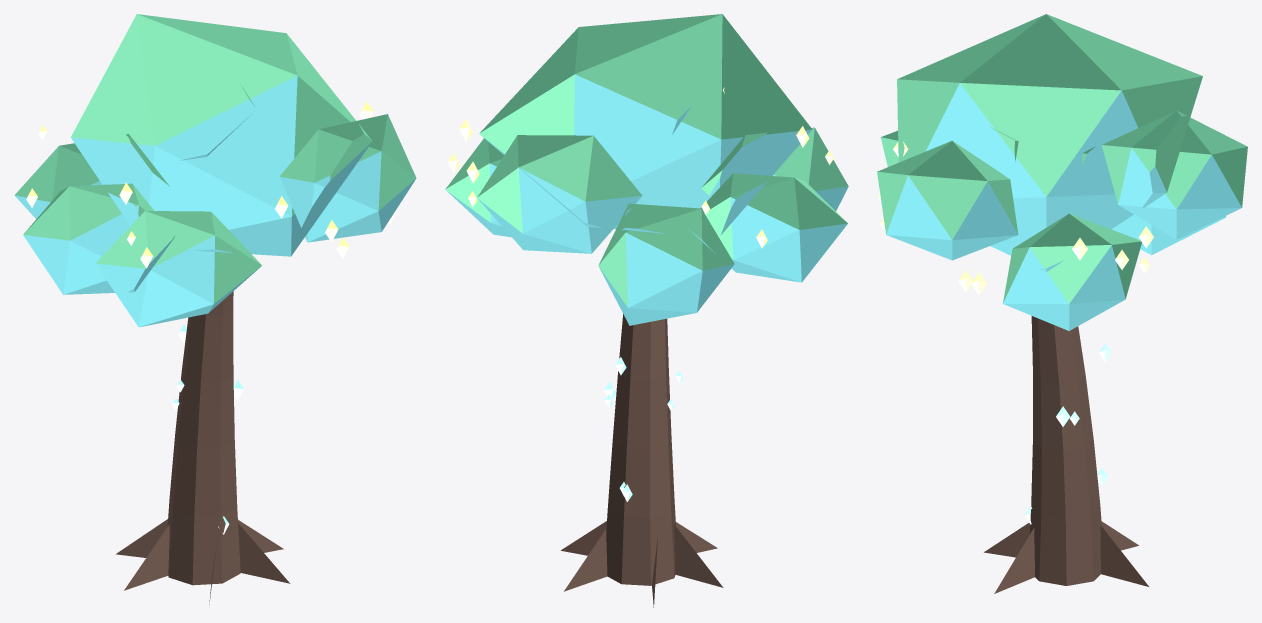
Rendered from giant_heartwood_near.glb.
The picture shows the model from 3 angles, left to right: view 1: azimuth 30°, elevation 25°; view 2: azimuth 150°, elevation 25°; view 3: azimuth 270°, elevation 25°; orthographic projection.
Visible parts, largest first — view 1: giant_heartwood_near; view 2: giant_heartwood_near; view 3: giant_heartwood_near.
Part boxes in pixels (bbox=[...]): giant_heartwood_near: bbox=[14, 14, 416, 604]; giant_heartwood_near: bbox=[445, 14, 848, 607]; giant_heartwood_near: bbox=[877, 14, 1247, 593].
Bounding box in the file's own units: 7.81 × 11.18 × 7.2.
